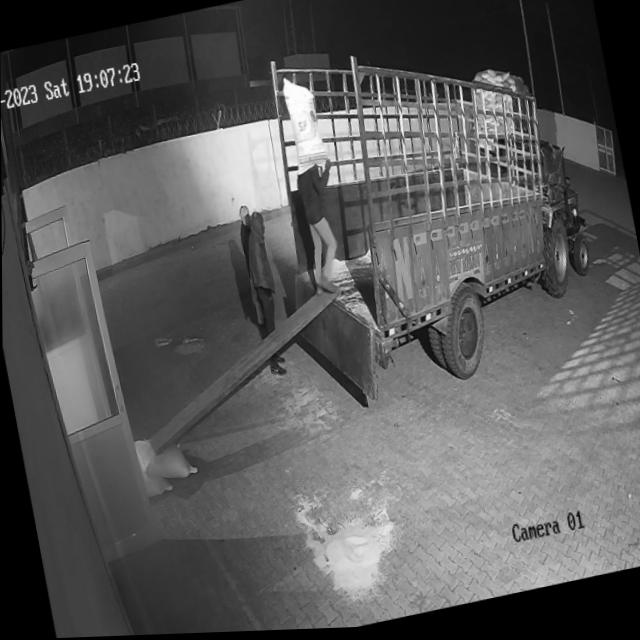sack: (279, 74, 325, 168), (134, 430, 198, 488)
